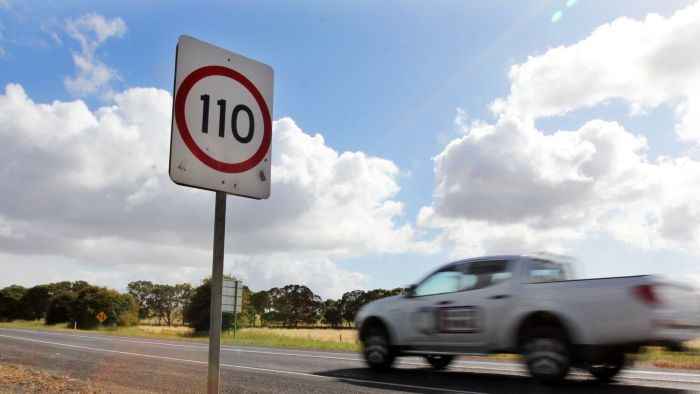Speed_limit_110km: (173, 64, 273, 174)
